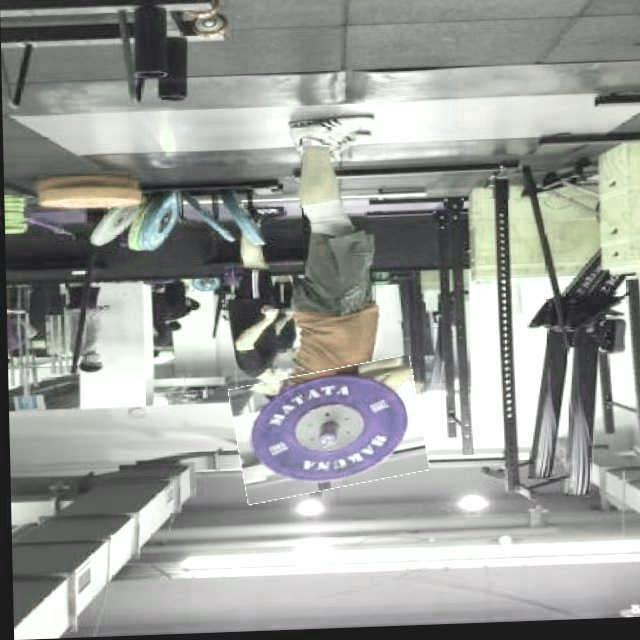barbell: (230, 365, 425, 500)
